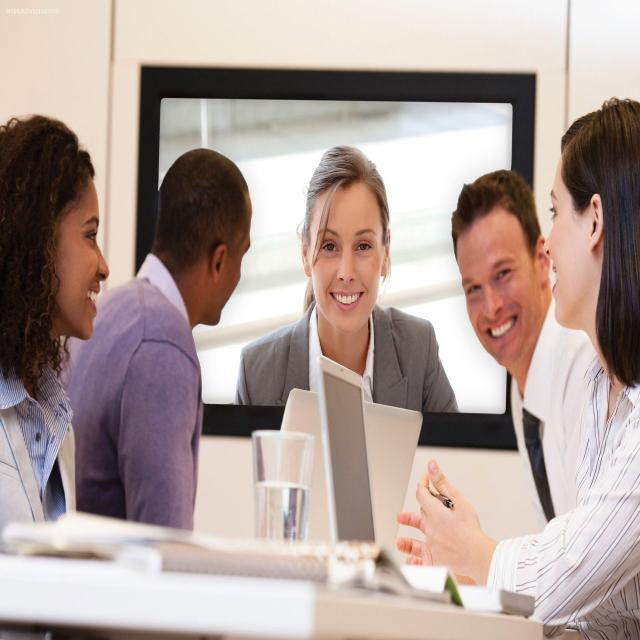adult: (396, 93, 640, 639), (55, 145, 254, 537), (450, 168, 639, 555), (234, 145, 453, 410), (0, 112, 107, 528)
